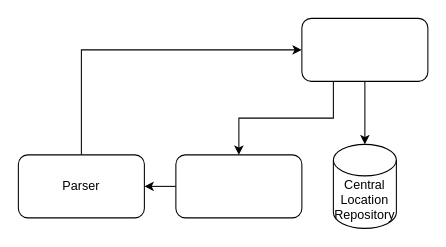
Image size: 446x247. Some labels were removed from this diagram. The shapes that lost their labels are listed below. From the top down, each one's centre as x and y in pixels, then its label:
[364,49]: Controller Script Algorithm
[238,186]: Open Route Service
